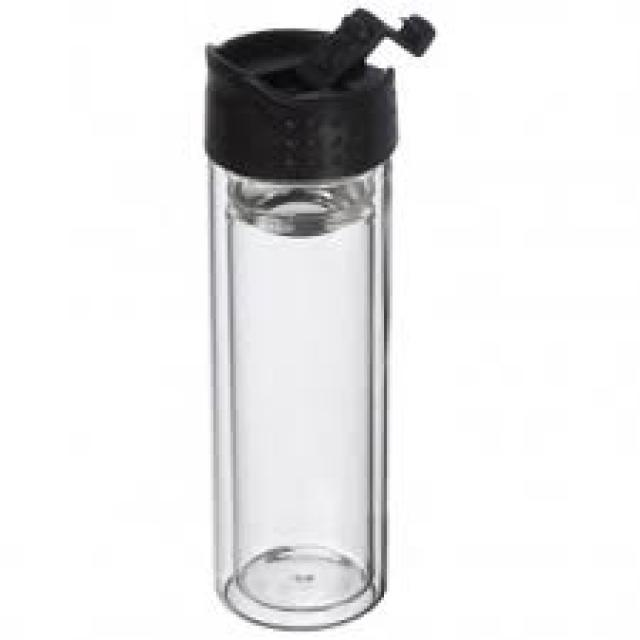Glass: (205, 164, 394, 630)
